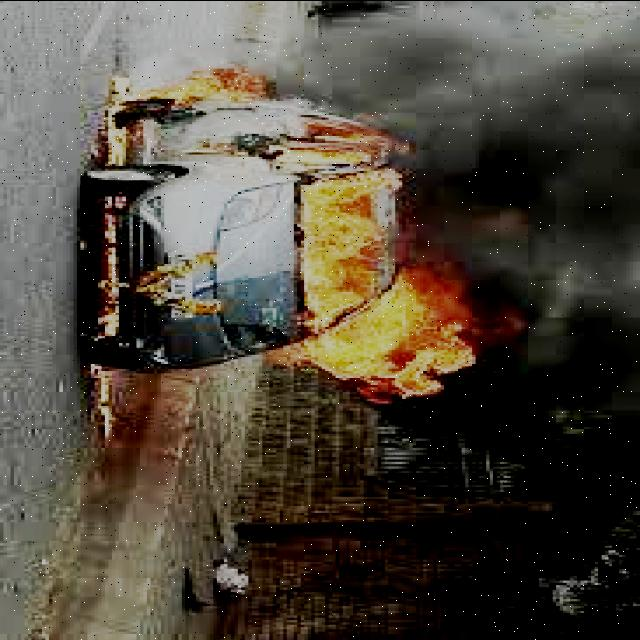api: (61, 73, 467, 427)
